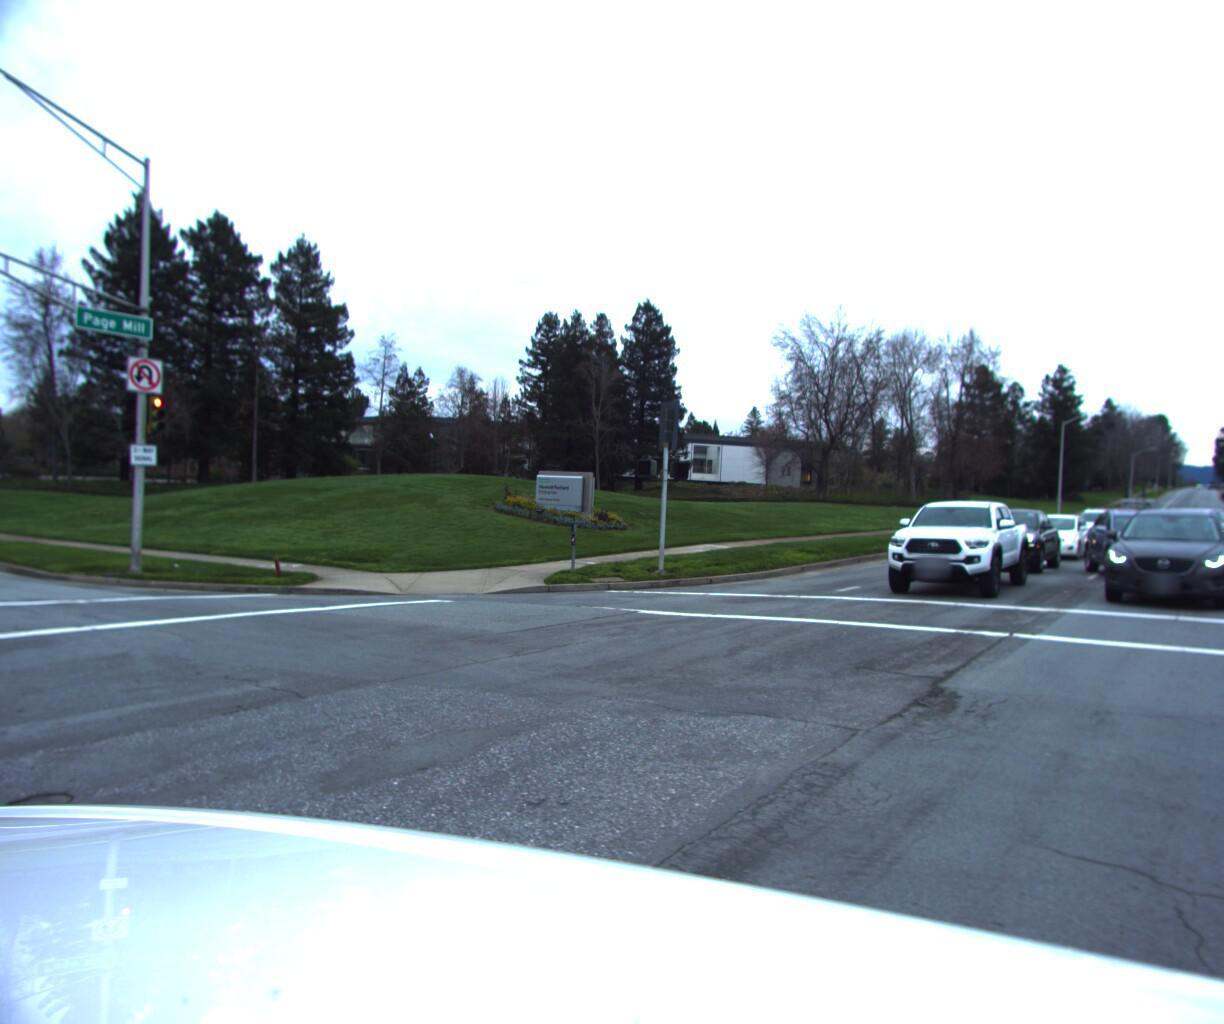car: (871, 488, 1032, 602), (1094, 497, 1224, 612), (1075, 504, 1220, 584), (947, 503, 1061, 573), (1135, 500, 1224, 569), (1005, 507, 1094, 560), (1066, 504, 1128, 549), (1107, 492, 1158, 533)
